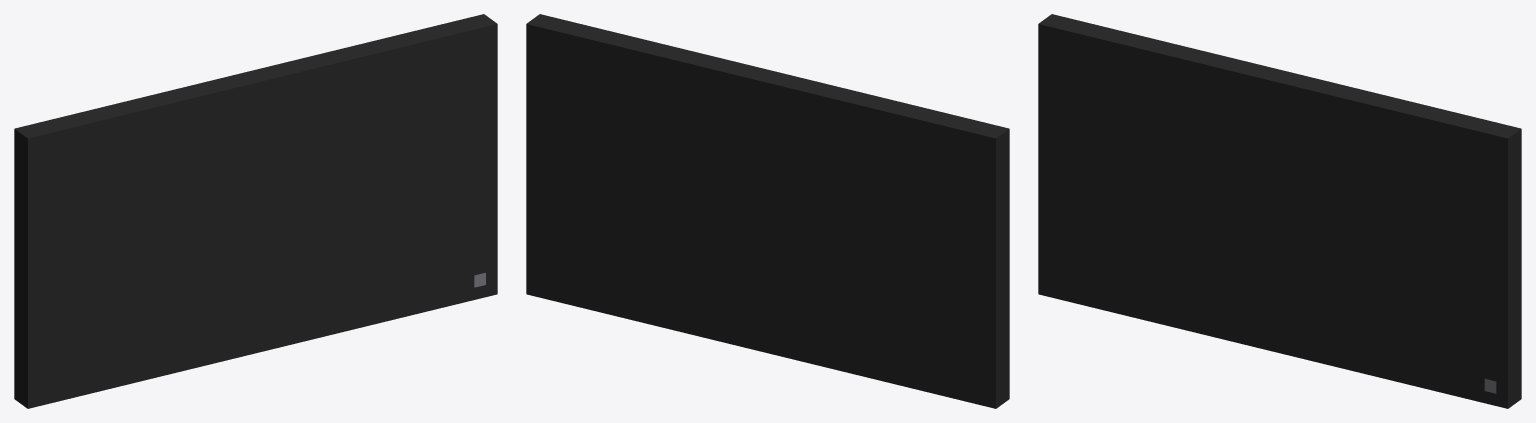
Rendered from widescreen.obj.
3 renders of one model, left to right at view 1: azimuth 30°, elevation 25°; view 2: azimuth 150°, elevation 25°; view 3: azimuth 330°, elevation 25°, orthographic.
Visible parts, largest first — view 1: widescreen; view 2: widescreen; view 3: widescreen.
Part boxes in pixels (bbox=[...]): widescreen: bbox=[14, 14, 497, 408]; widescreen: bbox=[526, 14, 1009, 408]; widescreen: bbox=[1038, 14, 1521, 408].
Bounding box in the file's own units: 40 × 22 × 2.
1 material, 1 textured.
